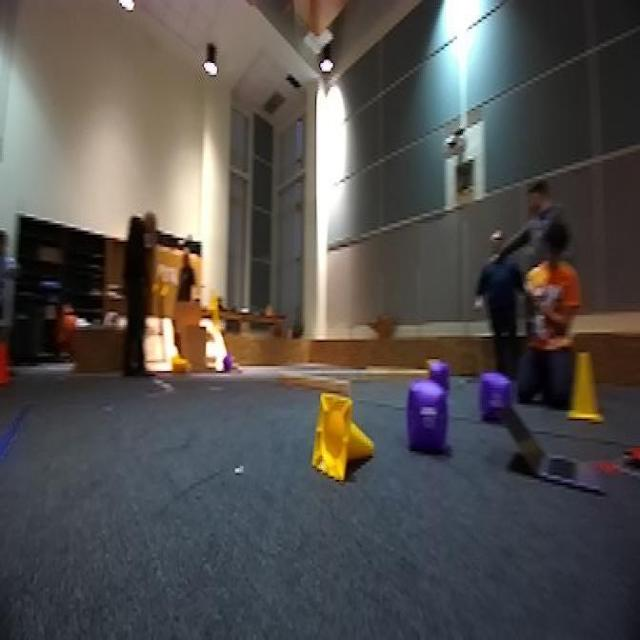frc_cone: (312, 395, 376, 483), (566, 349, 604, 424), (170, 352, 188, 377)
frc_cube: (404, 376, 448, 453), (477, 368, 514, 420), (427, 357, 448, 383), (220, 354, 236, 371)
